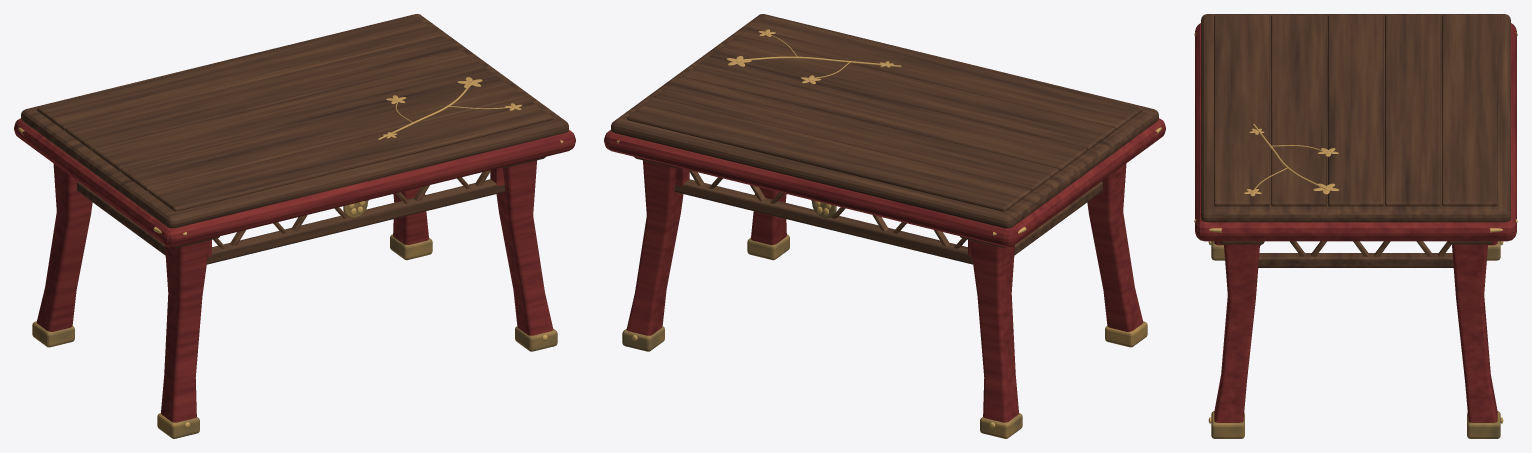
Rendered from mesa.glb.
The picture shows the model from 3 angles, left to right: view 1: azimuth 30°, elevation 25°; view 2: azimuth 150°, elevation 25°; view 3: azimuth 270°, elevation 25°; orthographic projection. The views are drawn at different scales.
Visible parts, largest first — view 1: Mesa_Sakura; view 2: Mesa_Sakura; view 3: Mesa_Sakura.
Part boxes in pixels (x1,y1,x2,y2): Mesa_Sakura: (14, 14, 575, 438); Mesa_Sakura: (604, 14, 1165, 438); Mesa_Sakura: (1194, 14, 1517, 438).
Bounding box in the file's own units: 1.43 × 0.764 × 0.9464.
6 materials, 6 textured.
